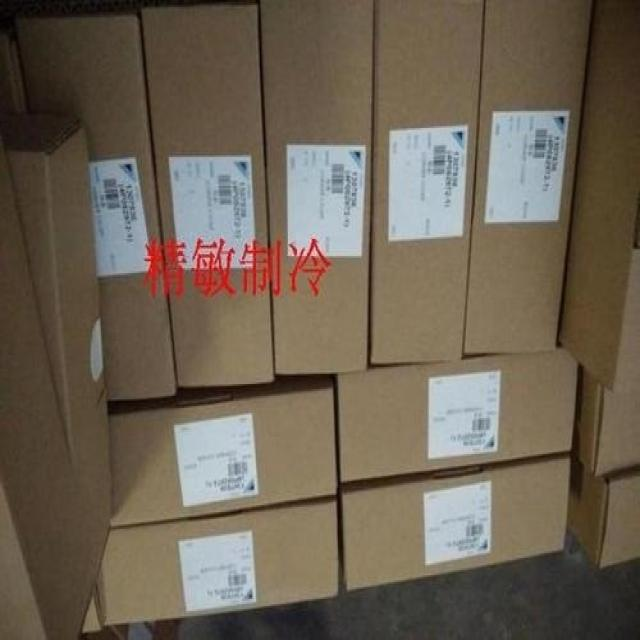box: (14, 14, 178, 401), (0, 154, 112, 638), (139, 4, 276, 388), (3, 114, 114, 521), (464, 3, 592, 351), (258, 2, 375, 375), (370, 2, 485, 366), (109, 387, 338, 529), (340, 348, 578, 482), (558, 2, 639, 390), (341, 458, 571, 594), (95, 501, 338, 627), (571, 247, 639, 478), (567, 455, 639, 567), (0, 31, 30, 125), (82, 587, 102, 633)
